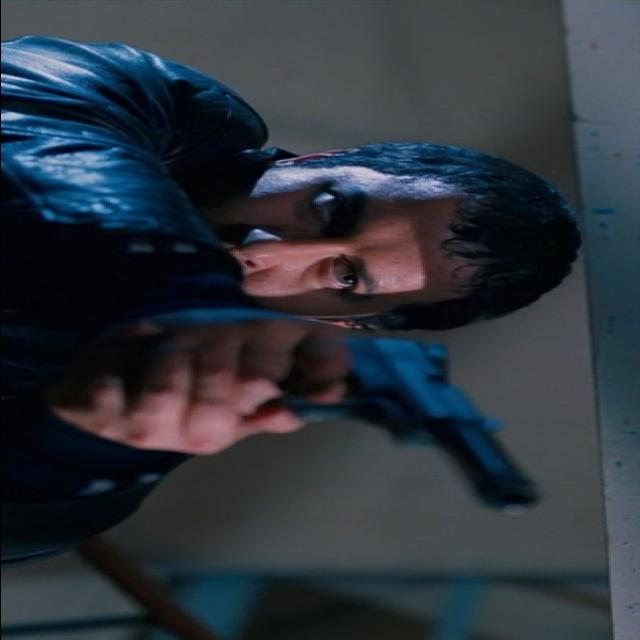weapons: (141, 321, 566, 526)
